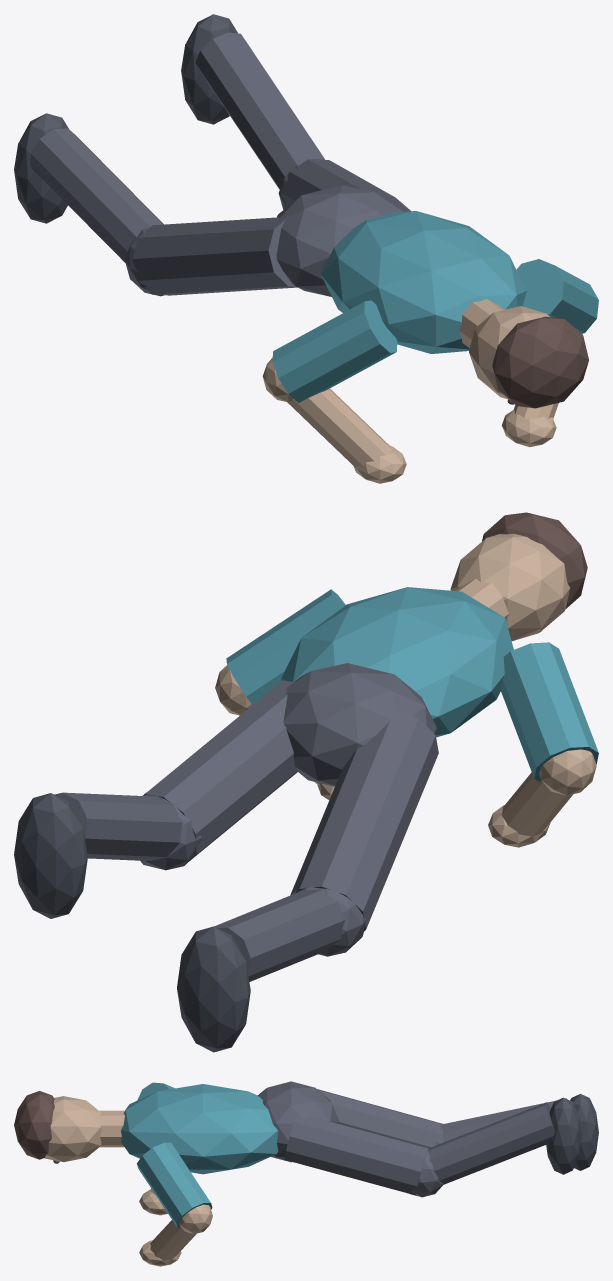
3 renders of one model, top to bottom at view 1: azimuth 30°, elevation 25°; view 2: azimuth 150°, elevation 25°; view 3: azimuth 270°, elevation 25°, orthographic. The views are drawn at different scales.
Parts seen in each view (by area): view 1: world; view 2: world; view 3: world.
Part boxes in pixels (bbox=[...]): world: bbox=[14, 14, 598, 483]; world: bbox=[14, 512, 598, 1052]; world: bbox=[14, 1081, 598, 1266].
Bounding box in the file's own units: 0.93 × 0.6103 × 2.06.
